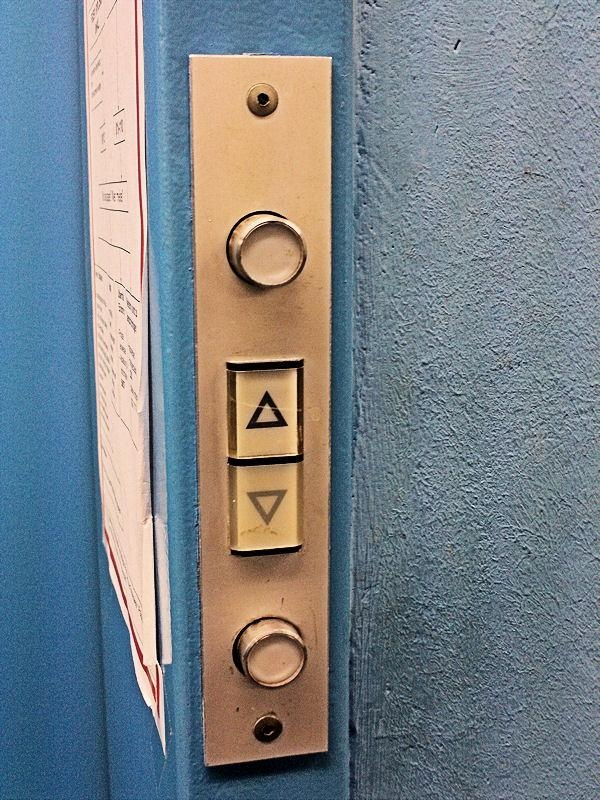down: (219, 458, 307, 557)
empty: (227, 207, 311, 290), (231, 614, 310, 692)
up: (219, 356, 306, 461)
